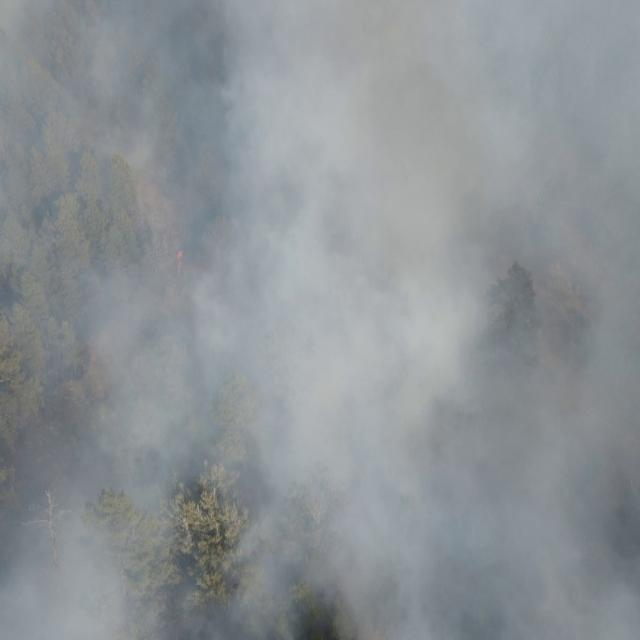fire: (173, 248, 184, 280)
smoke: (0, 0, 640, 640)
